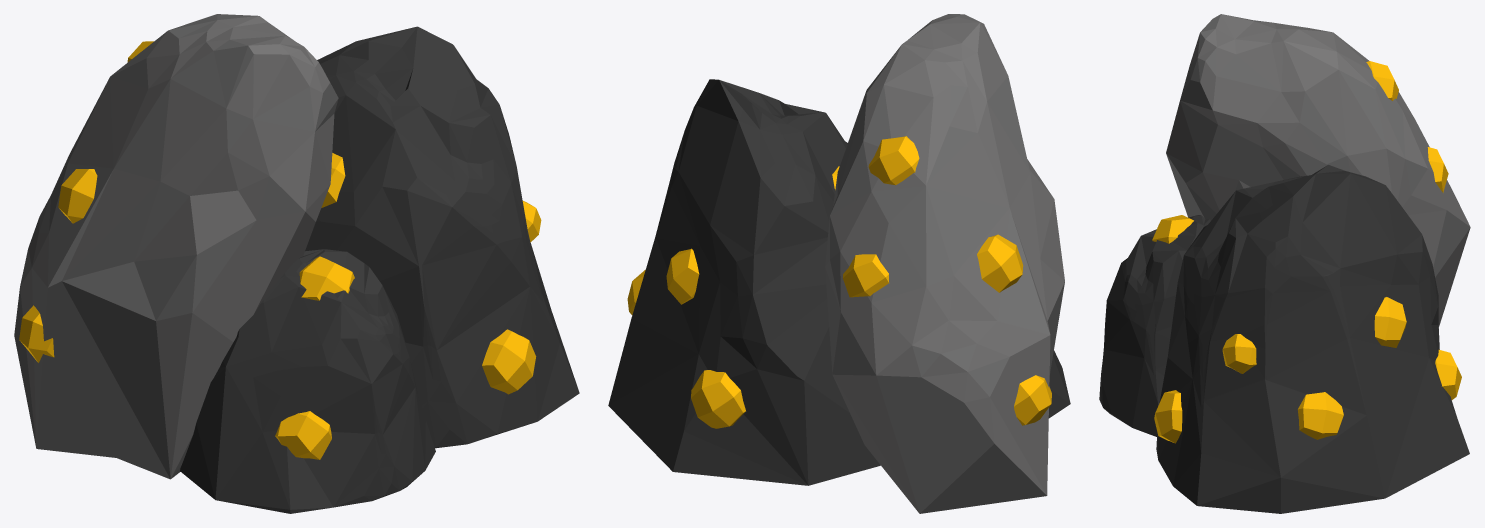
The model's file is winter_stone_gold_1.fbx.
3 renders of one model, left to right at view 1: azimuth 30°, elevation 25°; view 2: azimuth 150°, elevation 25°; view 3: azimuth 270°, elevation 25°, orthographic. The views are drawn at different scales.
Visible parts, largest first — view 1: Stone1, Stone2, Stone3, Cube.001, Cube.011, Cube.012, Cube.008, Cube.007, Cube.013; view 2: Stone1, Stone2, Cube.006, Cube.008, Cube.010, Cube.009, Cube.007, Cube.005, Stone3; view 3: Stone2, Stone1, Stone3, Cube.004, Cube.005, Cube.001, Cube.003, Cube.006, Cube.012, Cube.010, Cube.009.
Boxes of the visible parts, x1,y1,x2,y2 form: Stone1: (14, 14, 338, 479); Stone2: (305, 26, 579, 448); Stone3: (180, 249, 435, 513); Cube.001: (482, 329, 536, 394); Cube.011: (275, 411, 331, 459); Cube.012: (299, 256, 354, 300); Cube.008: (58, 169, 97, 223); Cube.007: (19, 305, 54, 362); Cube.013: (321, 153, 345, 207); Stone1: (825, 14, 1064, 513); Stone2: (608, 79, 880, 485); Cube.006: (691, 370, 745, 428); Cube.008: (977, 234, 1023, 292); Cube.010: (868, 136, 919, 185); Cube.009: (843, 254, 888, 297); Cube.007: (1014, 375, 1051, 425); Cube.005: (666, 248, 699, 304); Stone3: (1048, 350, 1070, 418); Stone2: (1156, 165, 1469, 513); Stone1: (1166, 14, 1470, 327); Stone3: (1099, 215, 1210, 436); Cube.004: (1297, 392, 1343, 439); Cube.005: (1374, 297, 1406, 347); Cube.001: (1154, 390, 1182, 443); Cube.003: (1222, 334, 1256, 373); Cube.006: (1435, 349, 1461, 399); Cube.012: (1152, 215, 1193, 243); Cube.010: (1366, 61, 1398, 100); Cube.009: (1427, 147, 1448, 192).
Size of the model in its own units: 76.05 by 62.99 by 58.07.
